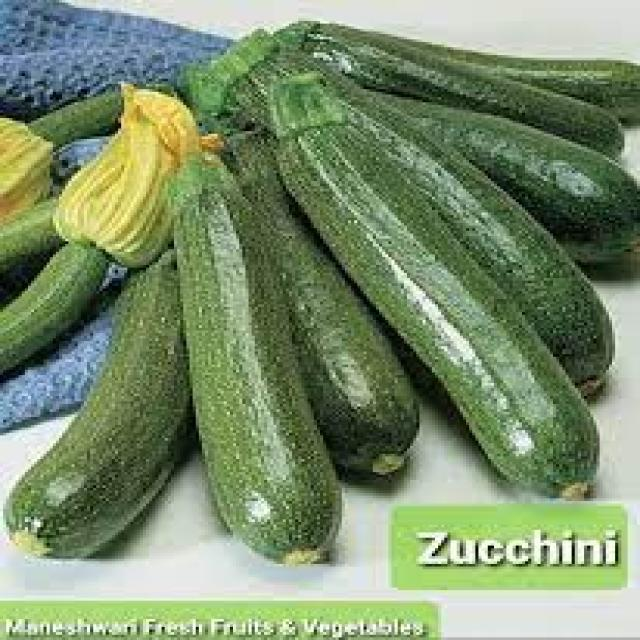Zucchini: (171, 169, 337, 557)
